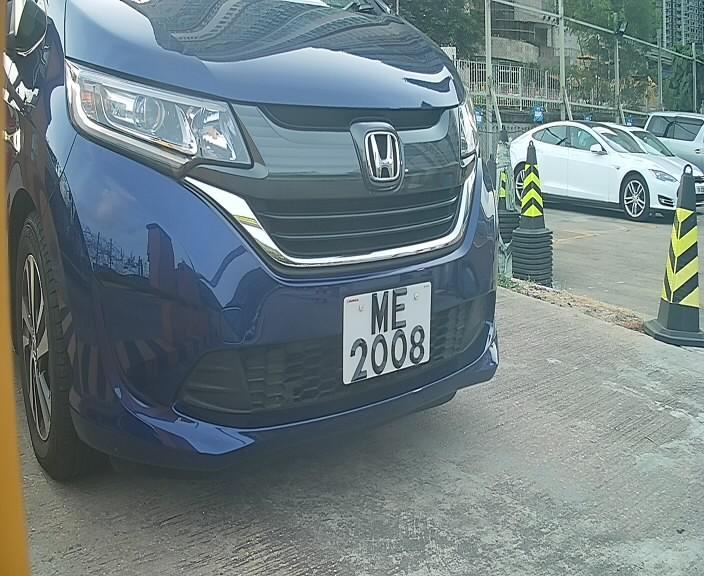License Plate: (334, 273, 437, 389)
